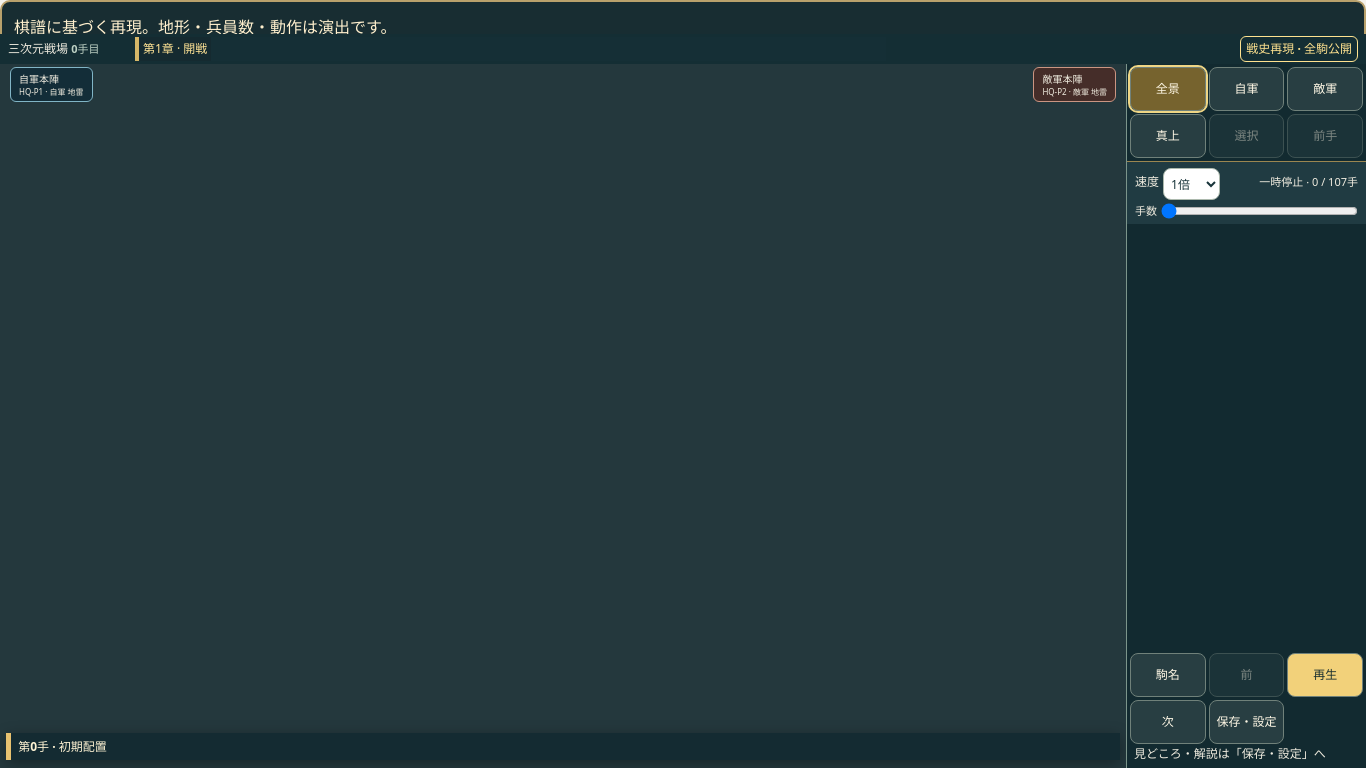
Test case: the final playback clock waits for the renderer before stopping
Set the slider named "再現手数" to "106" at (1348, 211), box [1161, 203, 1358, 219]
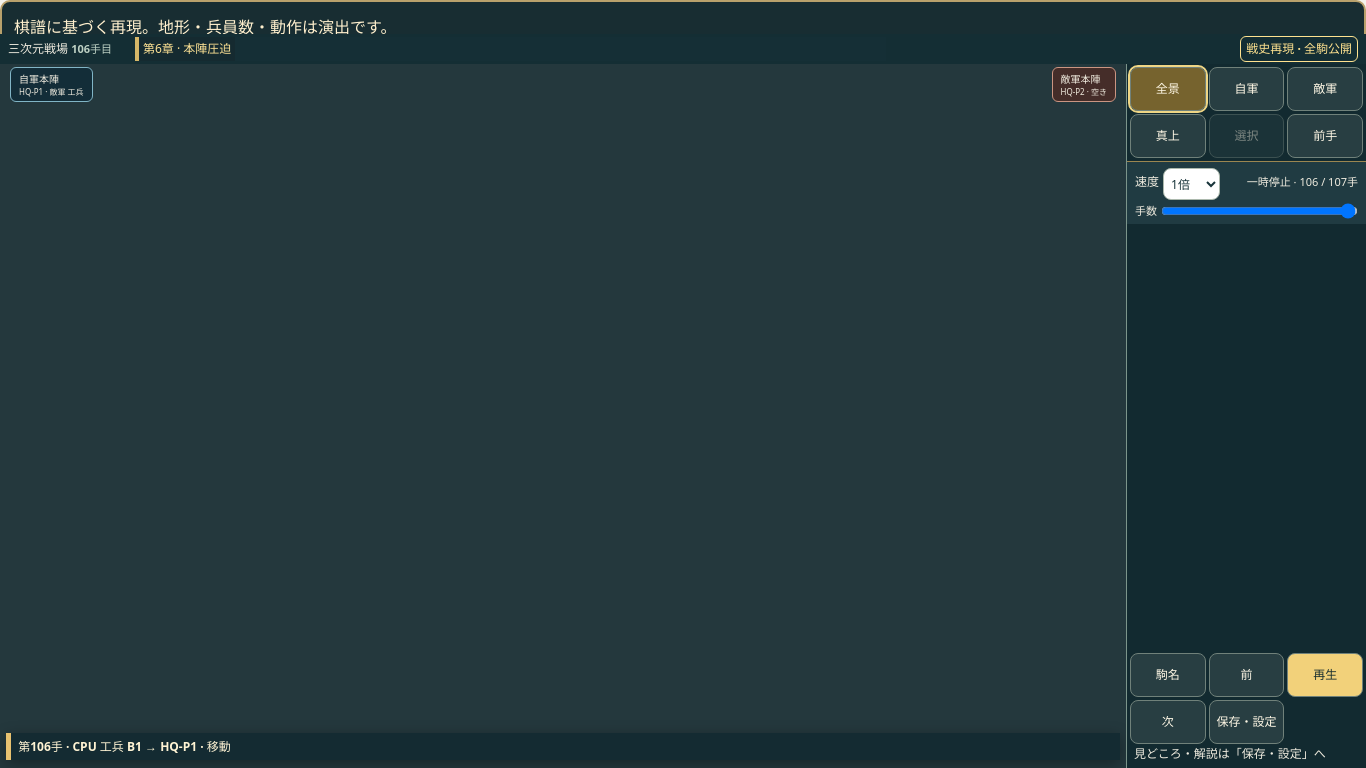
Click the button "再生" at (1325, 675), box [1287, 653, 1363, 697]
Wait 12500 ms
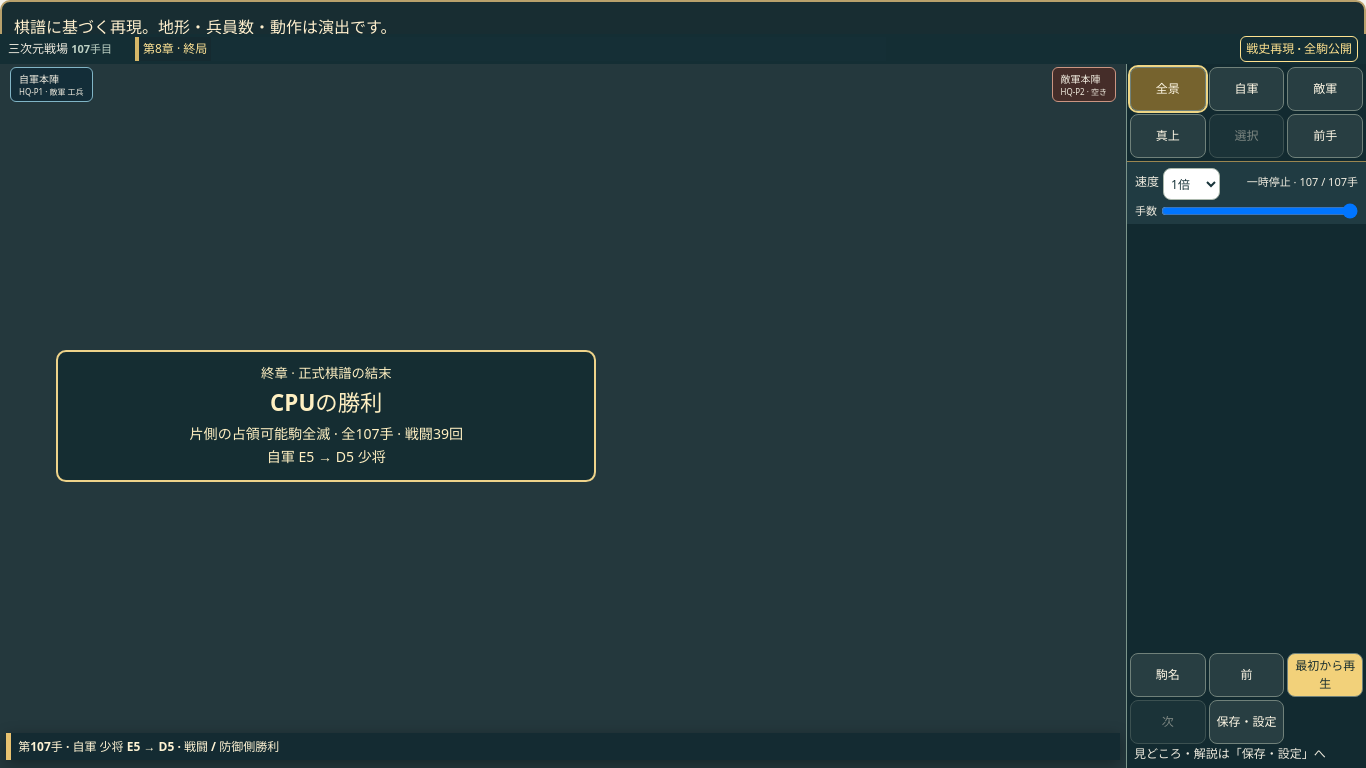
Expected: the button "最初から再生" is shown, [1287, 653, 1363, 697]
